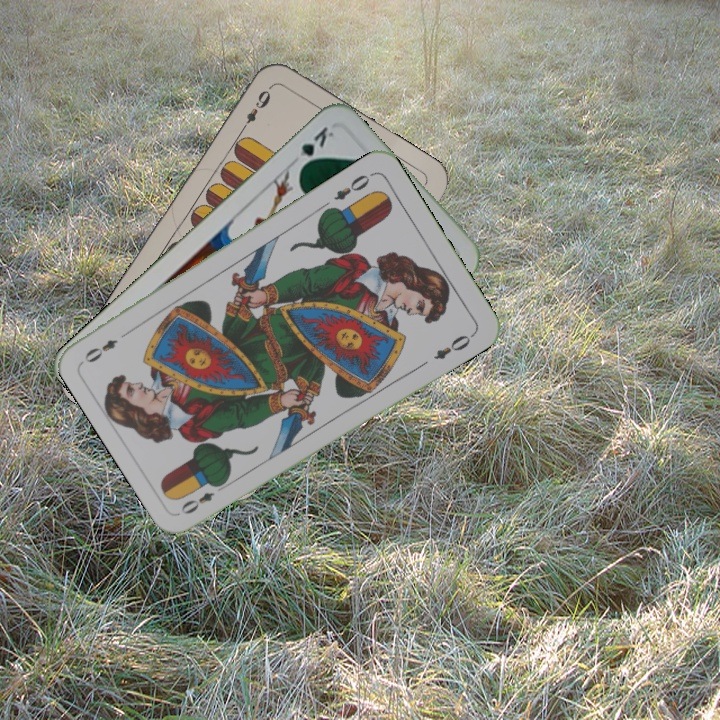E9: (236, 82, 274, 135)
EO: (177, 478, 229, 517), (330, 168, 376, 203)
GK: (295, 122, 337, 173)
